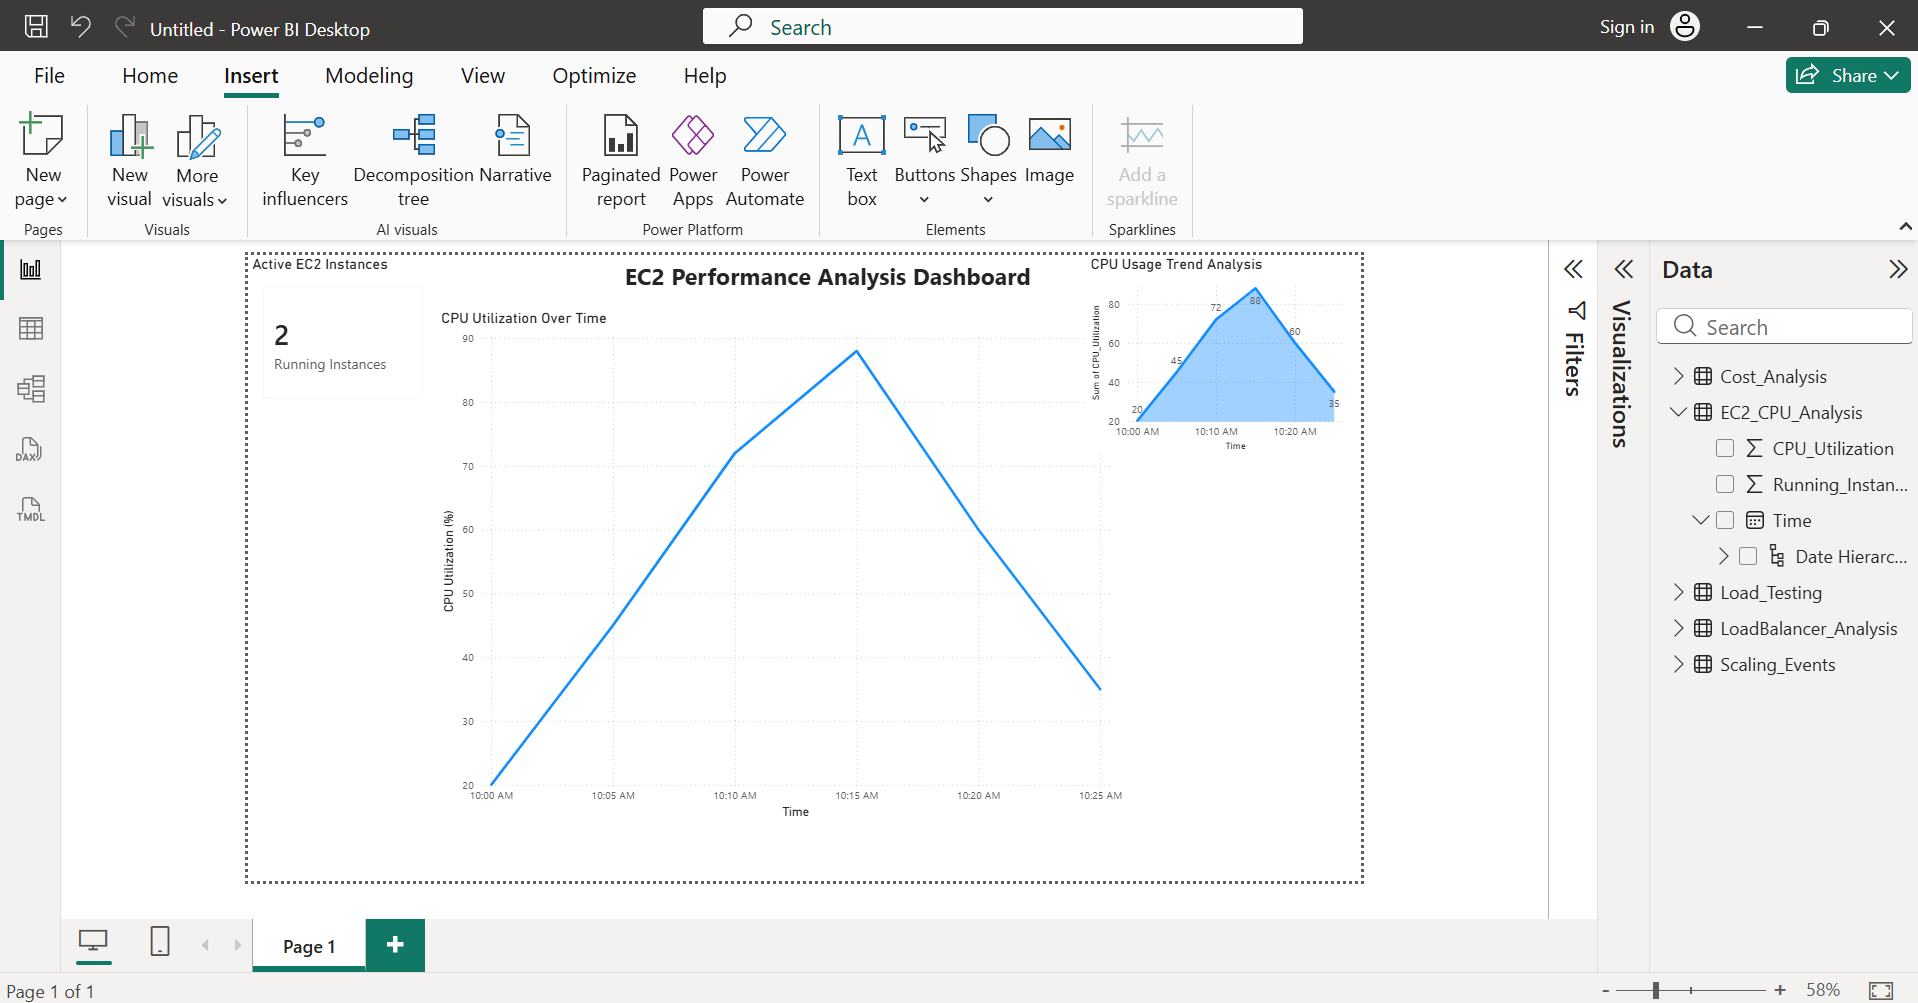

This screenshot's page, from the dashboard's own definition file:
{"tool":"powerbi","page":{"name":"EC2 Analysis ","canvas":[1280,720],"ordinal":0},"visuals":[{"type":"lineChart","title":"CPU Utilization Over Time","fields":{"Y":["Sum(EC2_CPU_Analysis.CPU_Utilization)"],"Category":["EC2_CPU_Analysis.Time"]},"box":[243.1,129.5,758.3,521.1],"z":0},{"type":"cardVisual","title":"Active EC2 Instances","fields":{"Data":["Max(EC2_CPU_Analysis.Running_Instances)"]},"box":[0,0,231.5,168.4],"z":1000},{"type":"areaChart","title":"CPU Usage Trend Analysis","fields":{"Category":["EC2_CPU_Analysis.Time"],"Y":["Sum(EC2_CPU_Analysis.CPU_Utilization)"]},"box":[935.9,0,343.3,229.9],"z":2000},{"type":"textbox","box":[343.3,0,592.6,61.5],"z":3000}]}

Visuals, with their boxes on the page's 1280x720 design canvas (x1, y1, x2, y2). These are canvas units, not pixel positions in the 1918x1003 screenshot, which may show the page scaled, cropped or inside an application window:
"CPU Utilization Over Time" lineChart: <bbox>243, 130, 1001, 651</bbox>
"Active EC2 Instances" cardVisual: <bbox>0, 0, 232, 168</bbox>
"CPU Usage Trend Analysis" areaChart: <bbox>936, 0, 1279, 230</bbox>
textbox: <bbox>343, 0, 936, 62</bbox>
